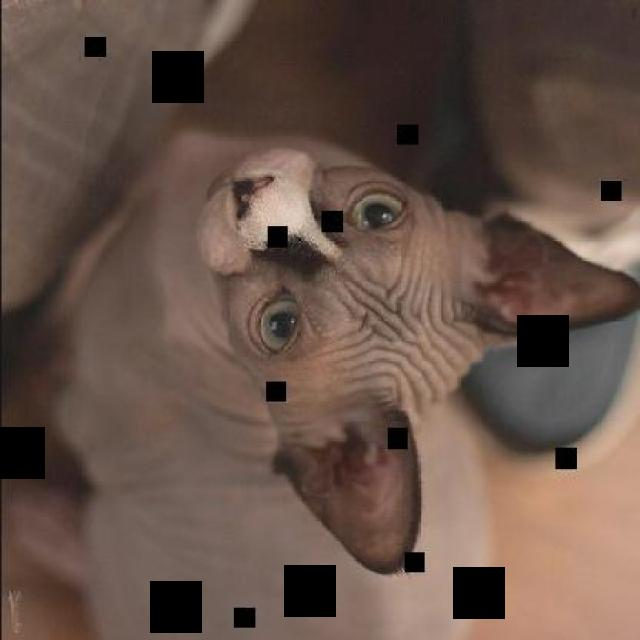unauthorized: (0, 0, 638, 638), (192, 141, 638, 574)
